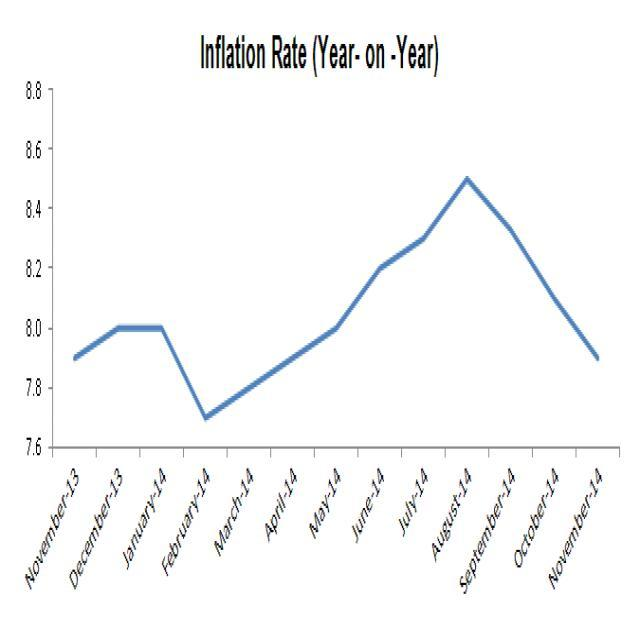axis: (45, 443, 632, 460), (45, 84, 62, 464)
line: (70, 173, 602, 424)
